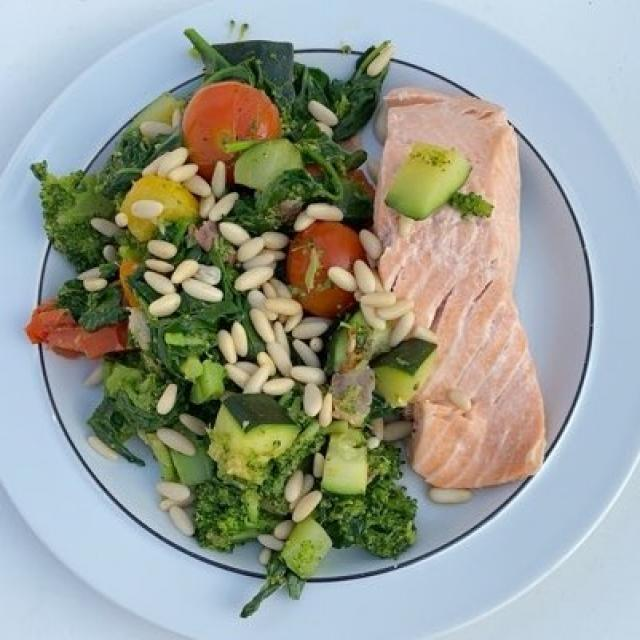mixed-vegetables: (36, 38, 431, 582)
nuts: (86, 36, 431, 561)
